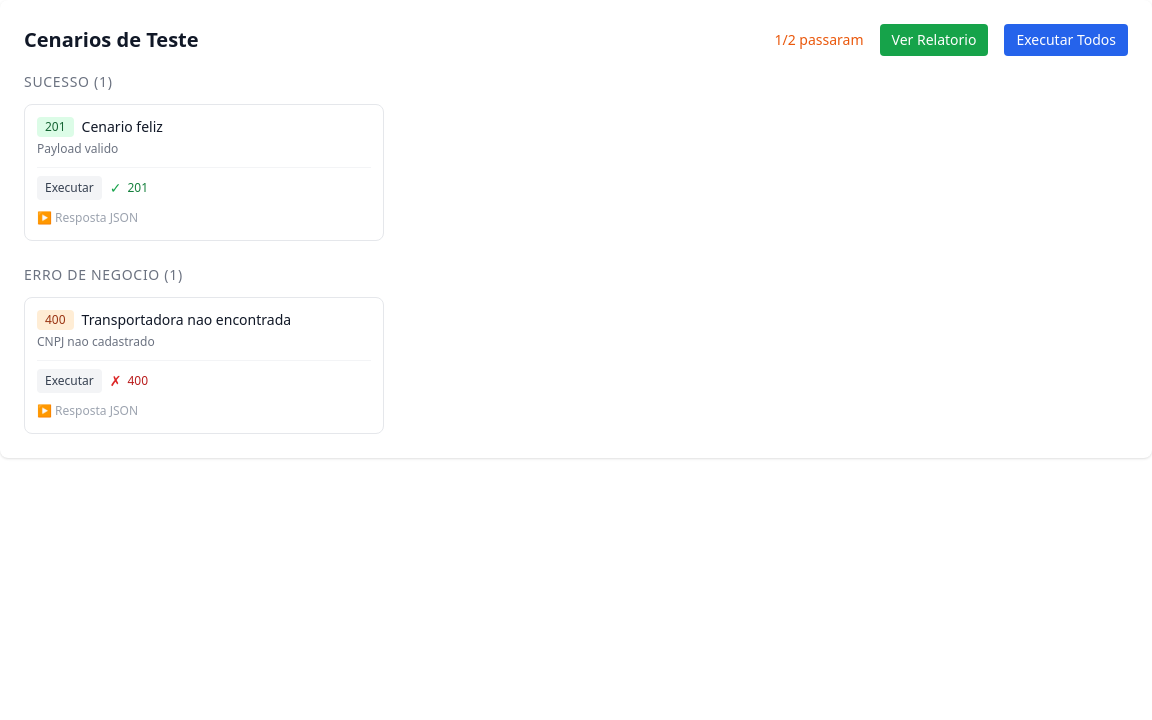
Test: ScenarioReport › AC3: Copy JSON Per Card › shows Erro ao copiar when clipboard fails
What coordinates should you click on to do the following:
click the button "Ver Relatorio"
I would click on:
 (934, 40)
Its box is [880,24,988,56].
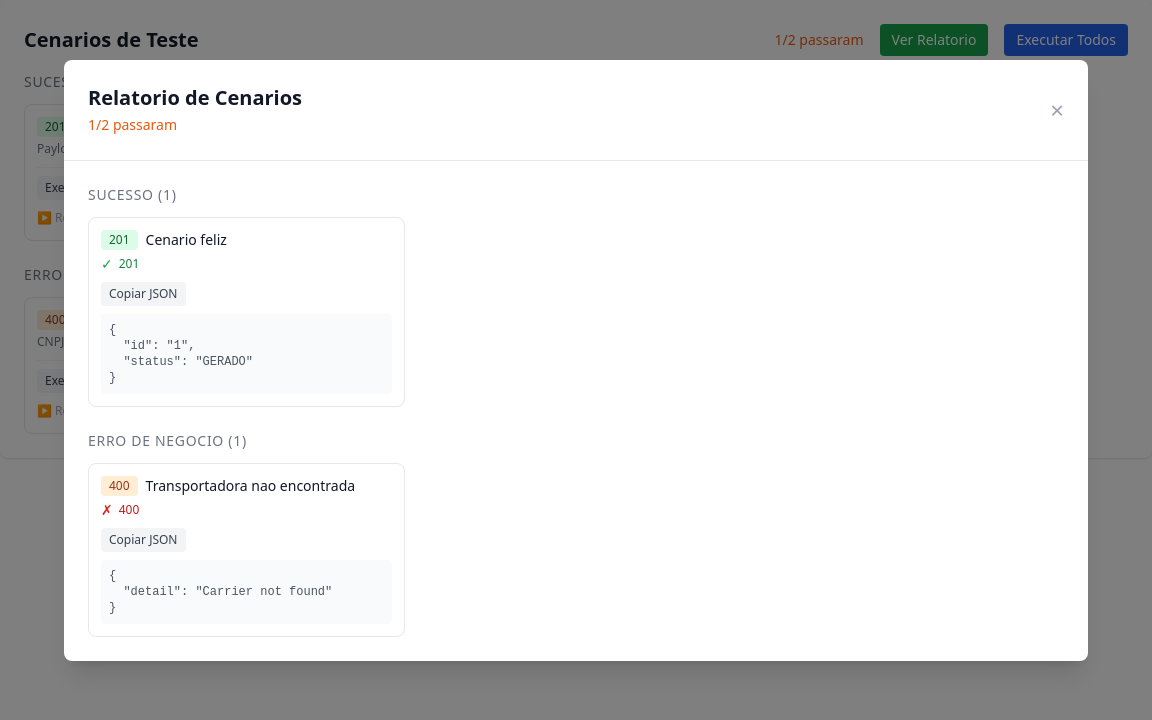
What coordinates should you click on to do the following:
click the 1st button "Copiar JSON"
I would click on:
 (143, 294)
Its box is [101,282,186,306].
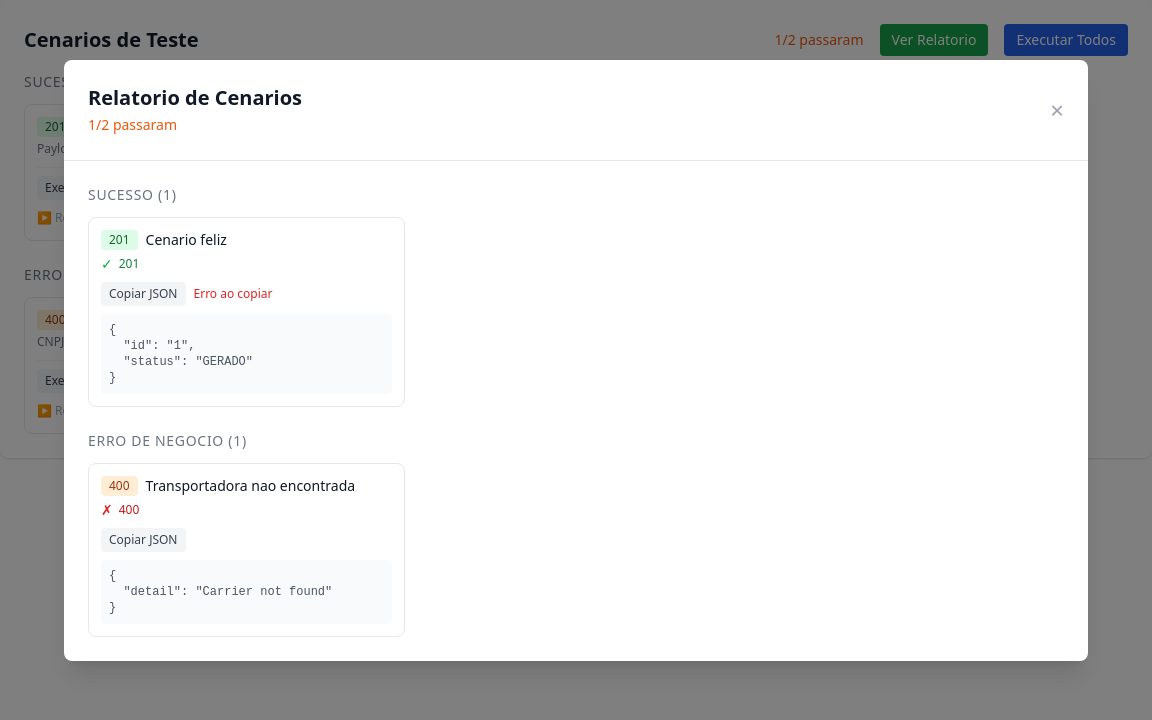
Expected: the text "Erro ao copiar" is shown, [194,286,272,302]
